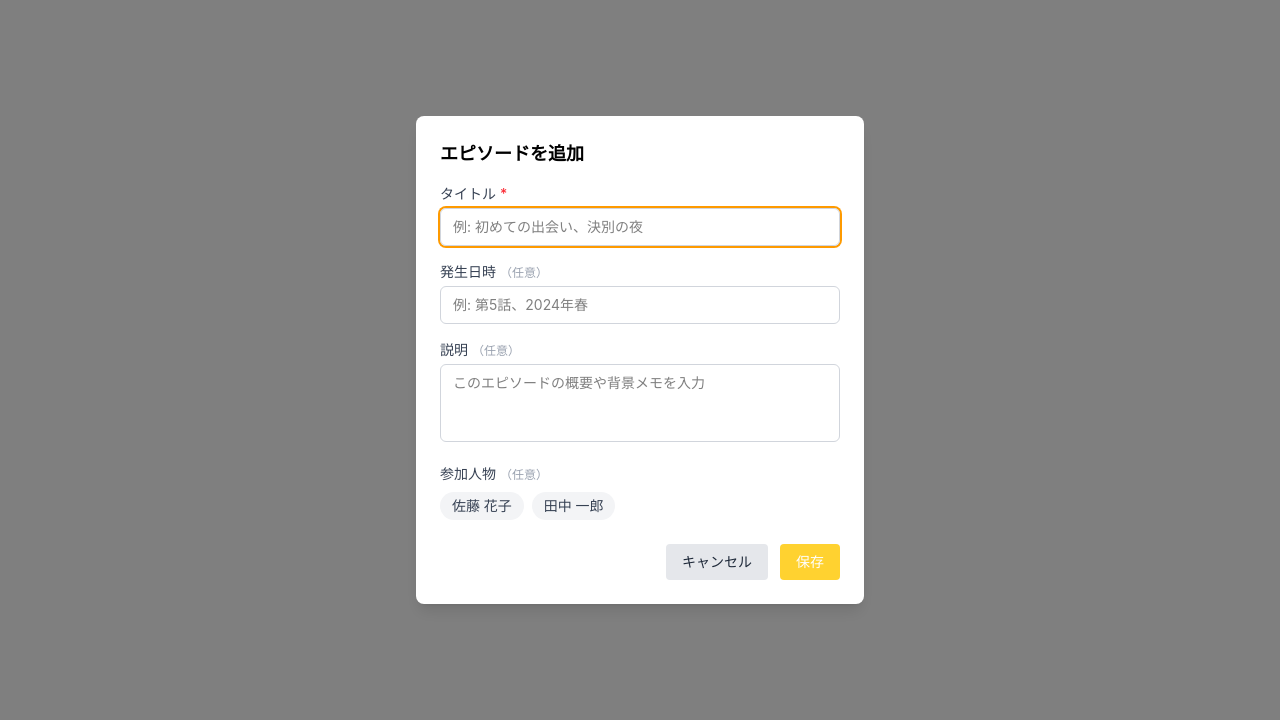
Scenario: EpisodeCaptureDialog › タイトル必須バリデーション › タイトルを入力すると保存ボタンが有効になる
In the field labelled "タイトル*": (640, 227) [440,208,840,246], type "初めての出会い"
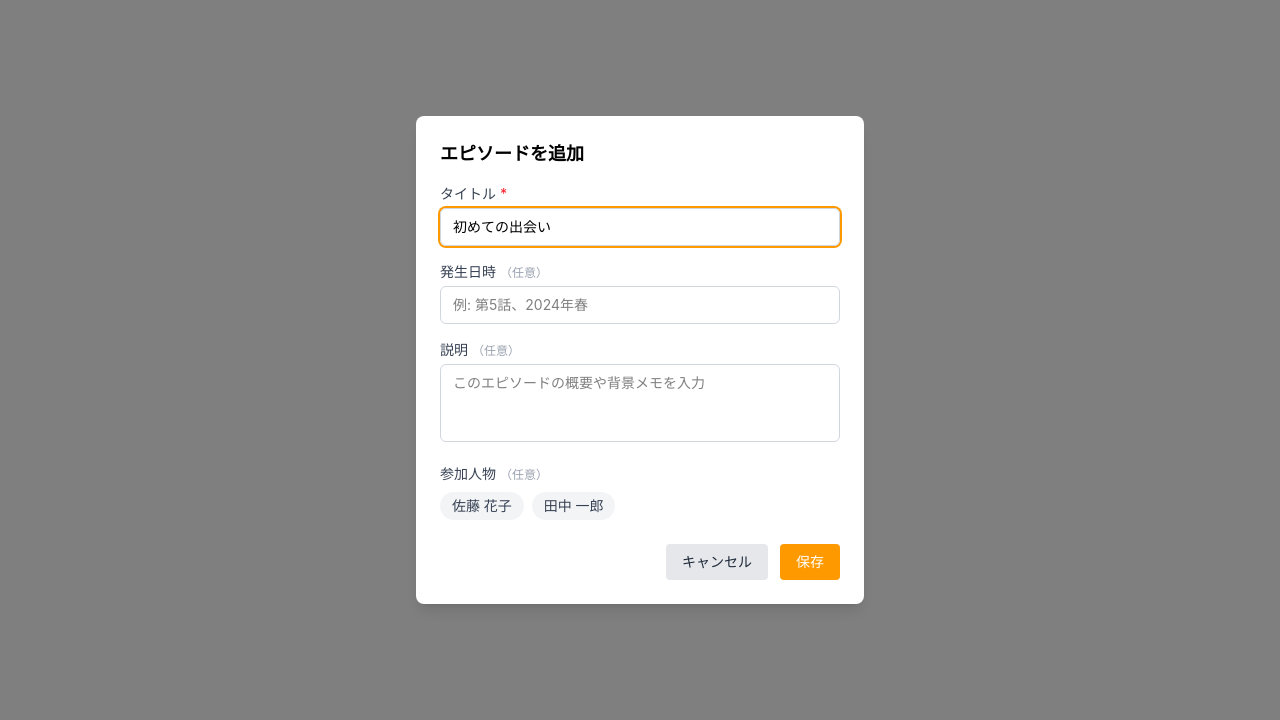
Expected: the button "保存" is enabled, [780,544,840,580]
